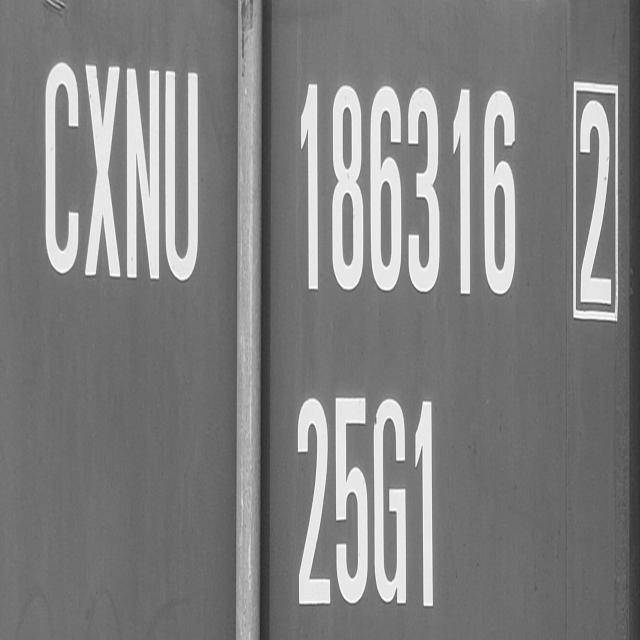dv: (569, 69, 623, 325)
owner: (23, 47, 205, 299)
serial: (290, 71, 542, 315)
size: (280, 379, 464, 618)
